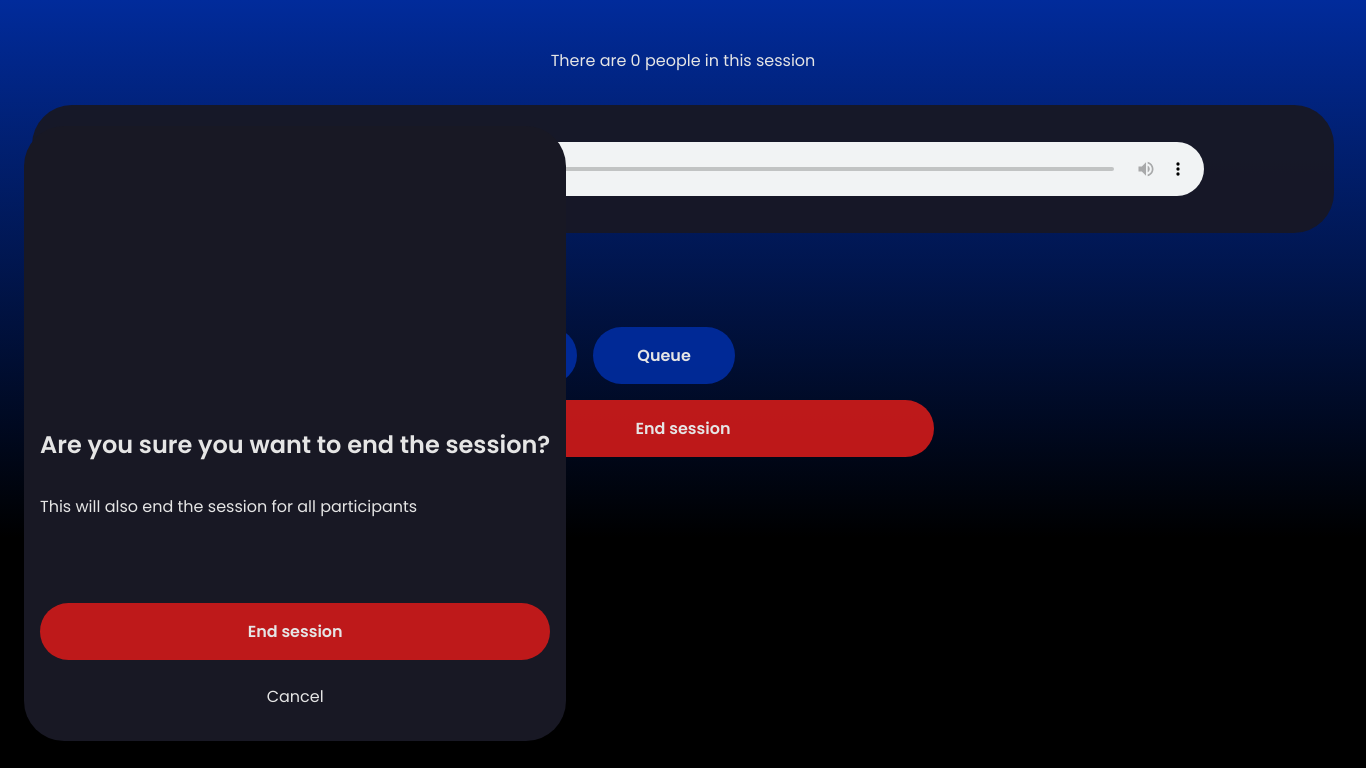
Scenario: Given a component that shows the detail of a session, › when the session does not exist, the page should show an error
Click the 2nd button "End session". click: coordinates (295, 631)
box: [40,603,550,660]
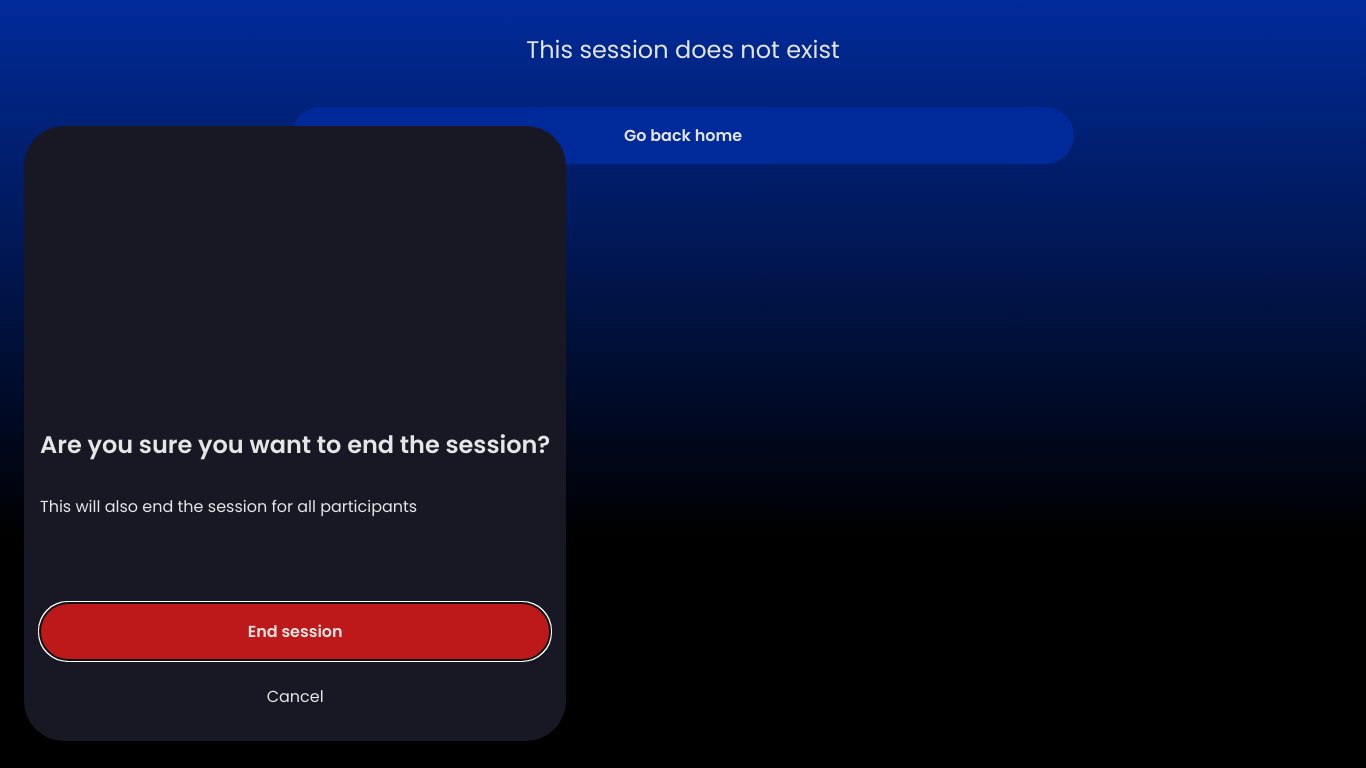
Now the heading "This session does not exist" is shown, box [526,32,840,67]
